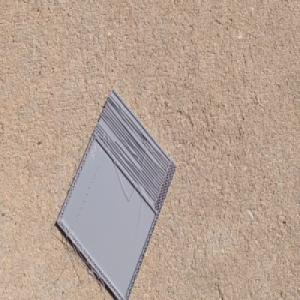PlasticPart: (54, 88, 180, 300)
